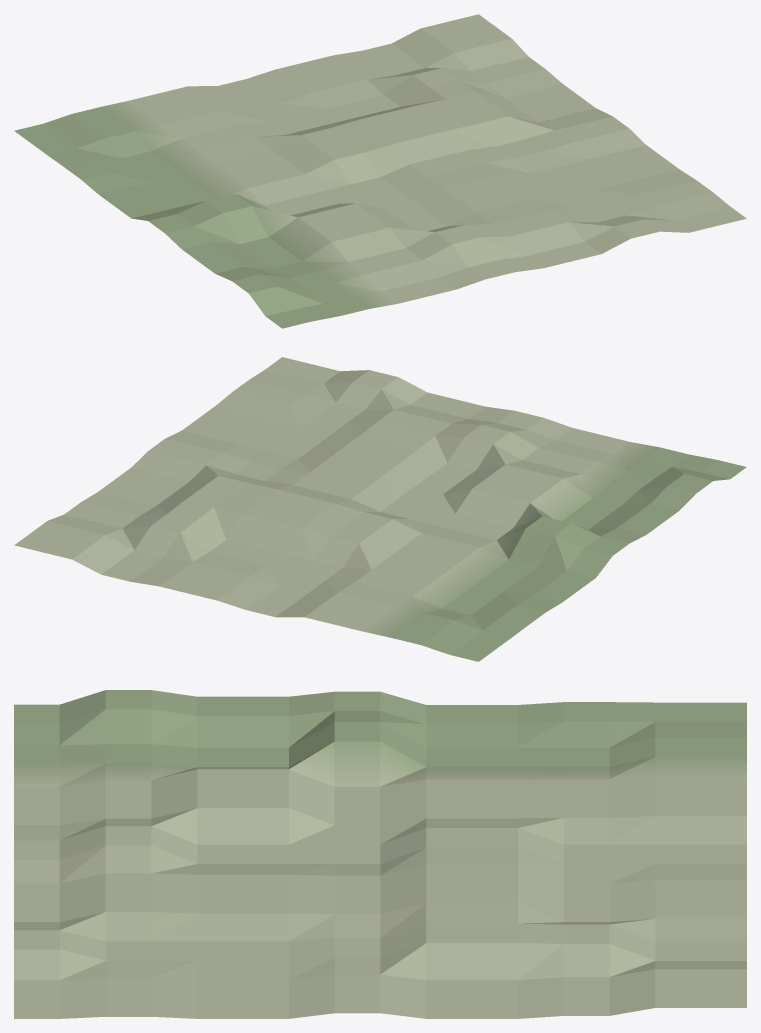
3 renders of one model, top to bottom at view 1: azimuth 30°, elevation 25°; view 2: azimuth 150°, elevation 25°; view 3: azimuth 270°, elevation 25°, orthographic. The views are drawn at different scales.
Size of the model in its own units: 32 by 1.24 by 32.
